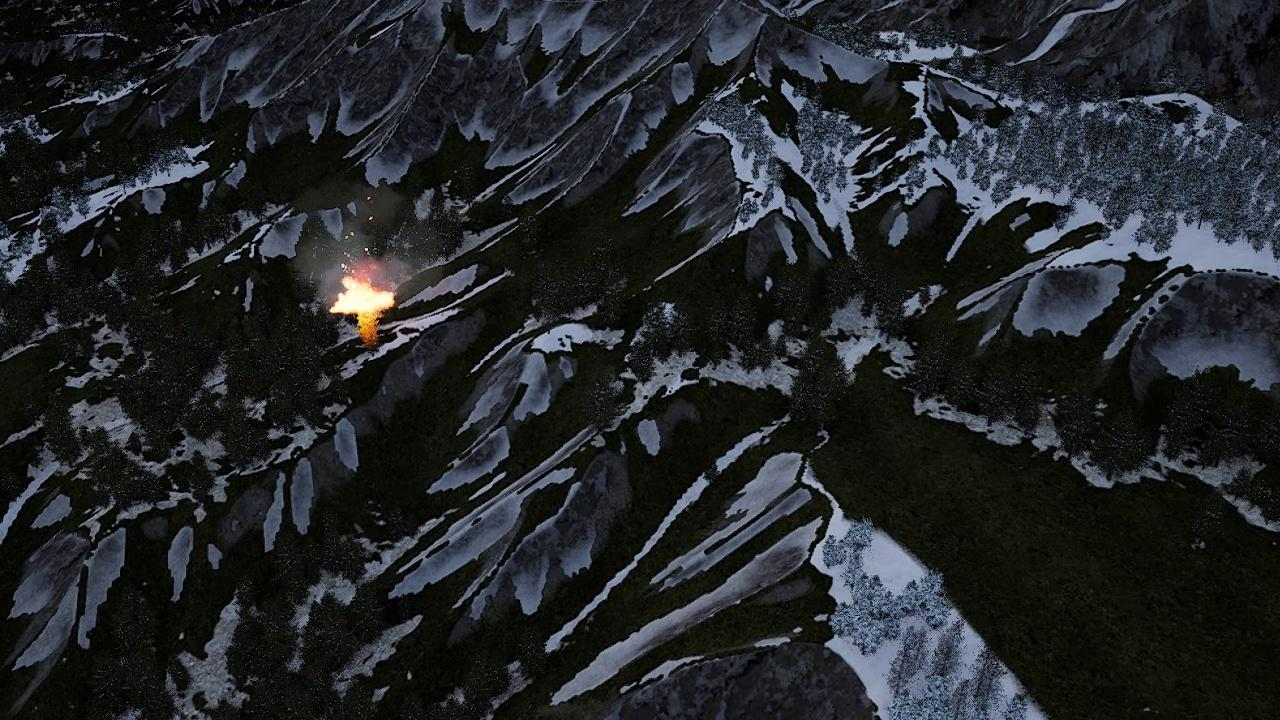fire: (334, 279, 397, 317)
smoke: (293, 179, 430, 317)
